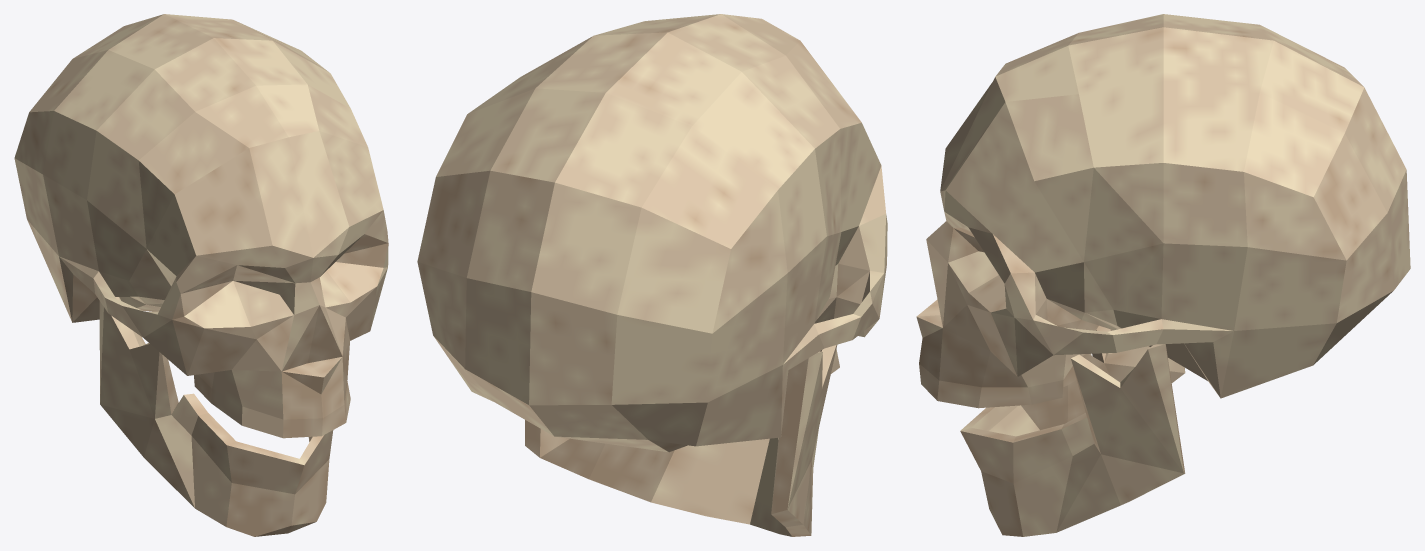
Rendered from Skull.fbx.
3 views of the same model, side by side, from view 1: azimuth 30°, elevation 25°; view 2: azimuth 150°, elevation 25°; view 3: azimuth 270°, elevation 25° (orthographic). The views are drawn at different scales.
Parts seen in each view (by area): view 1: Cube.003; view 2: Cube.003; view 3: Cube.003.
Part boxes in pixels (x1,y1,x2,y2): Cube.003: (14,14,388,536); Cube.003: (417,14,887,536); Cube.003: (916,14,1410,536).
Size of the model in its own units: 35.08 by 55.54 by 50.42.
